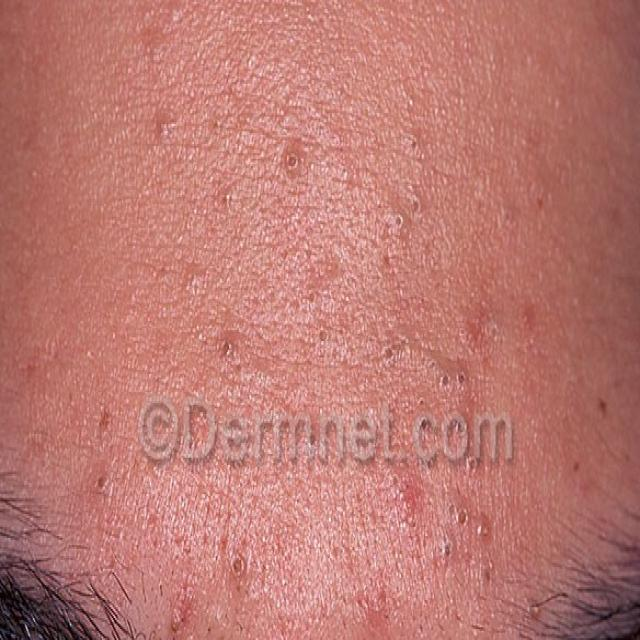Acne: (68, 0, 621, 631)
